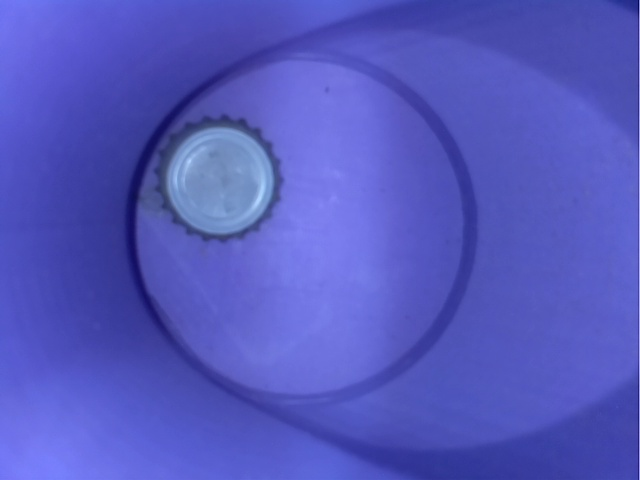capsule: (145, 105, 295, 251)
